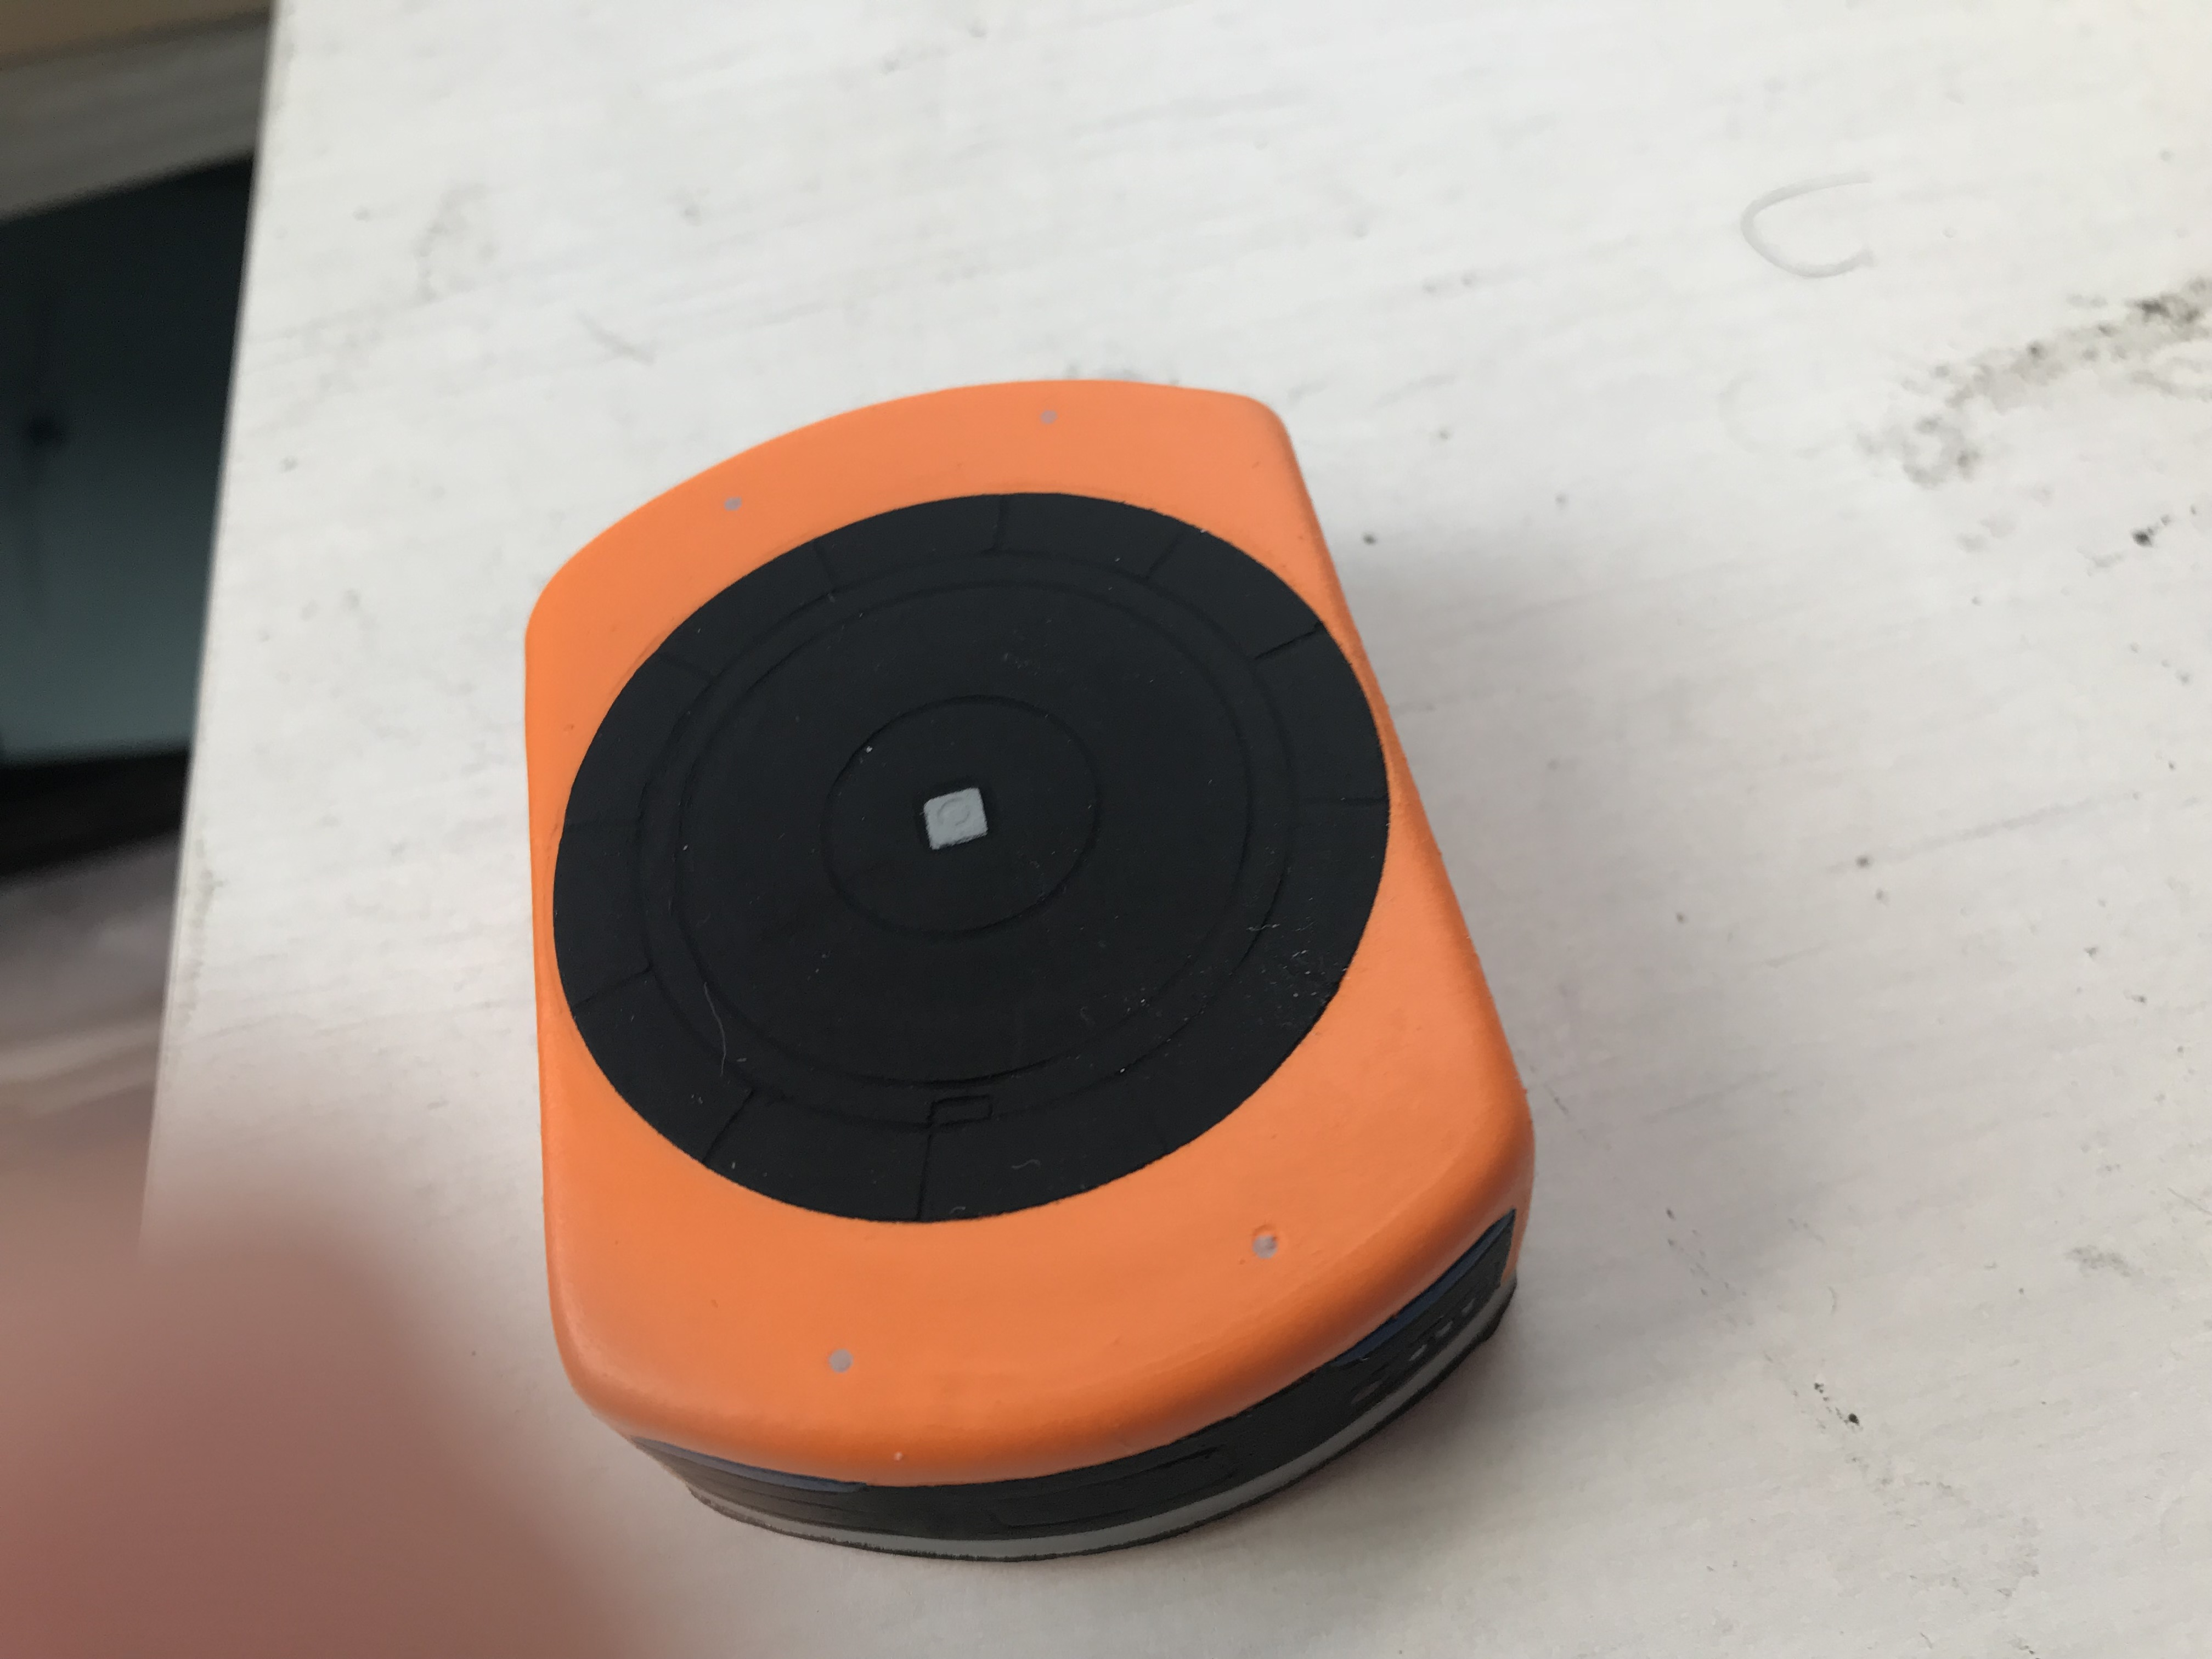amazon_bot: (495, 364, 1646, 1567)
